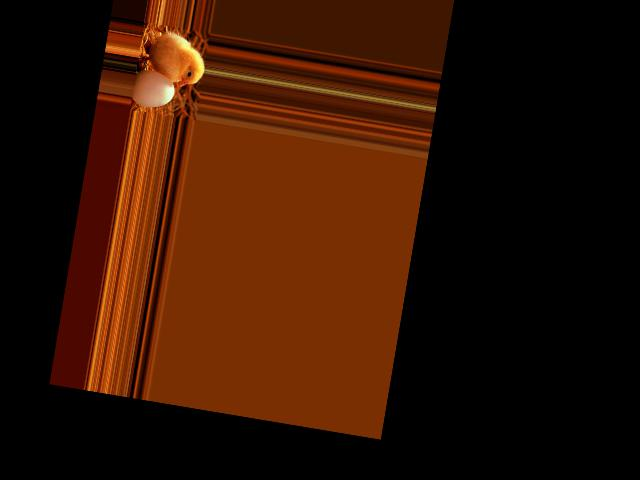egg: (129, 67, 177, 110)
